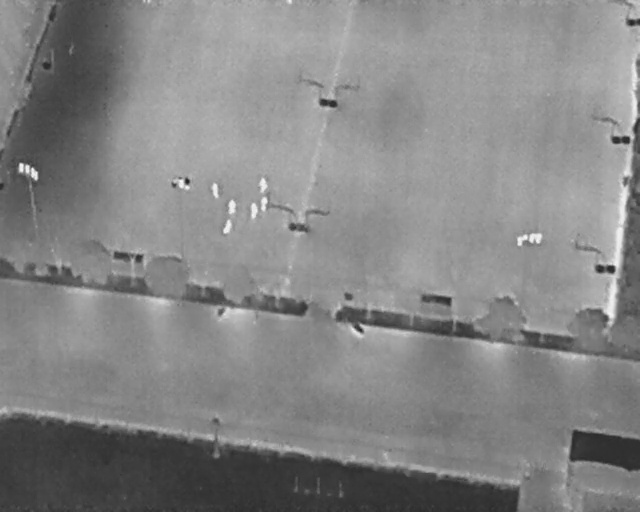Person: (258, 176, 268, 193), (222, 218, 232, 235), (250, 201, 259, 219), (227, 198, 236, 215), (211, 181, 219, 199), (260, 195, 268, 212)
